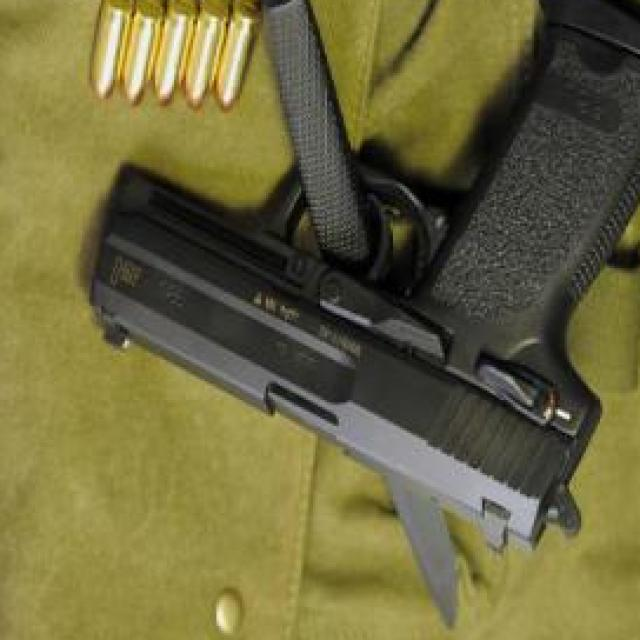pistol: (87, 0, 640, 560)
